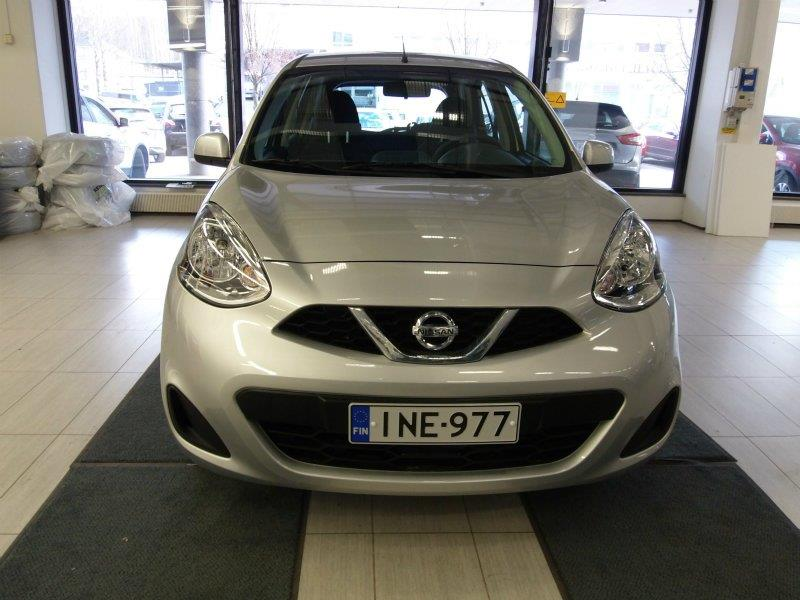license: (349, 402, 521, 448)
